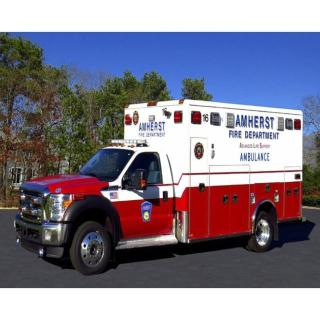Ambulance: (19, 68, 308, 280)
